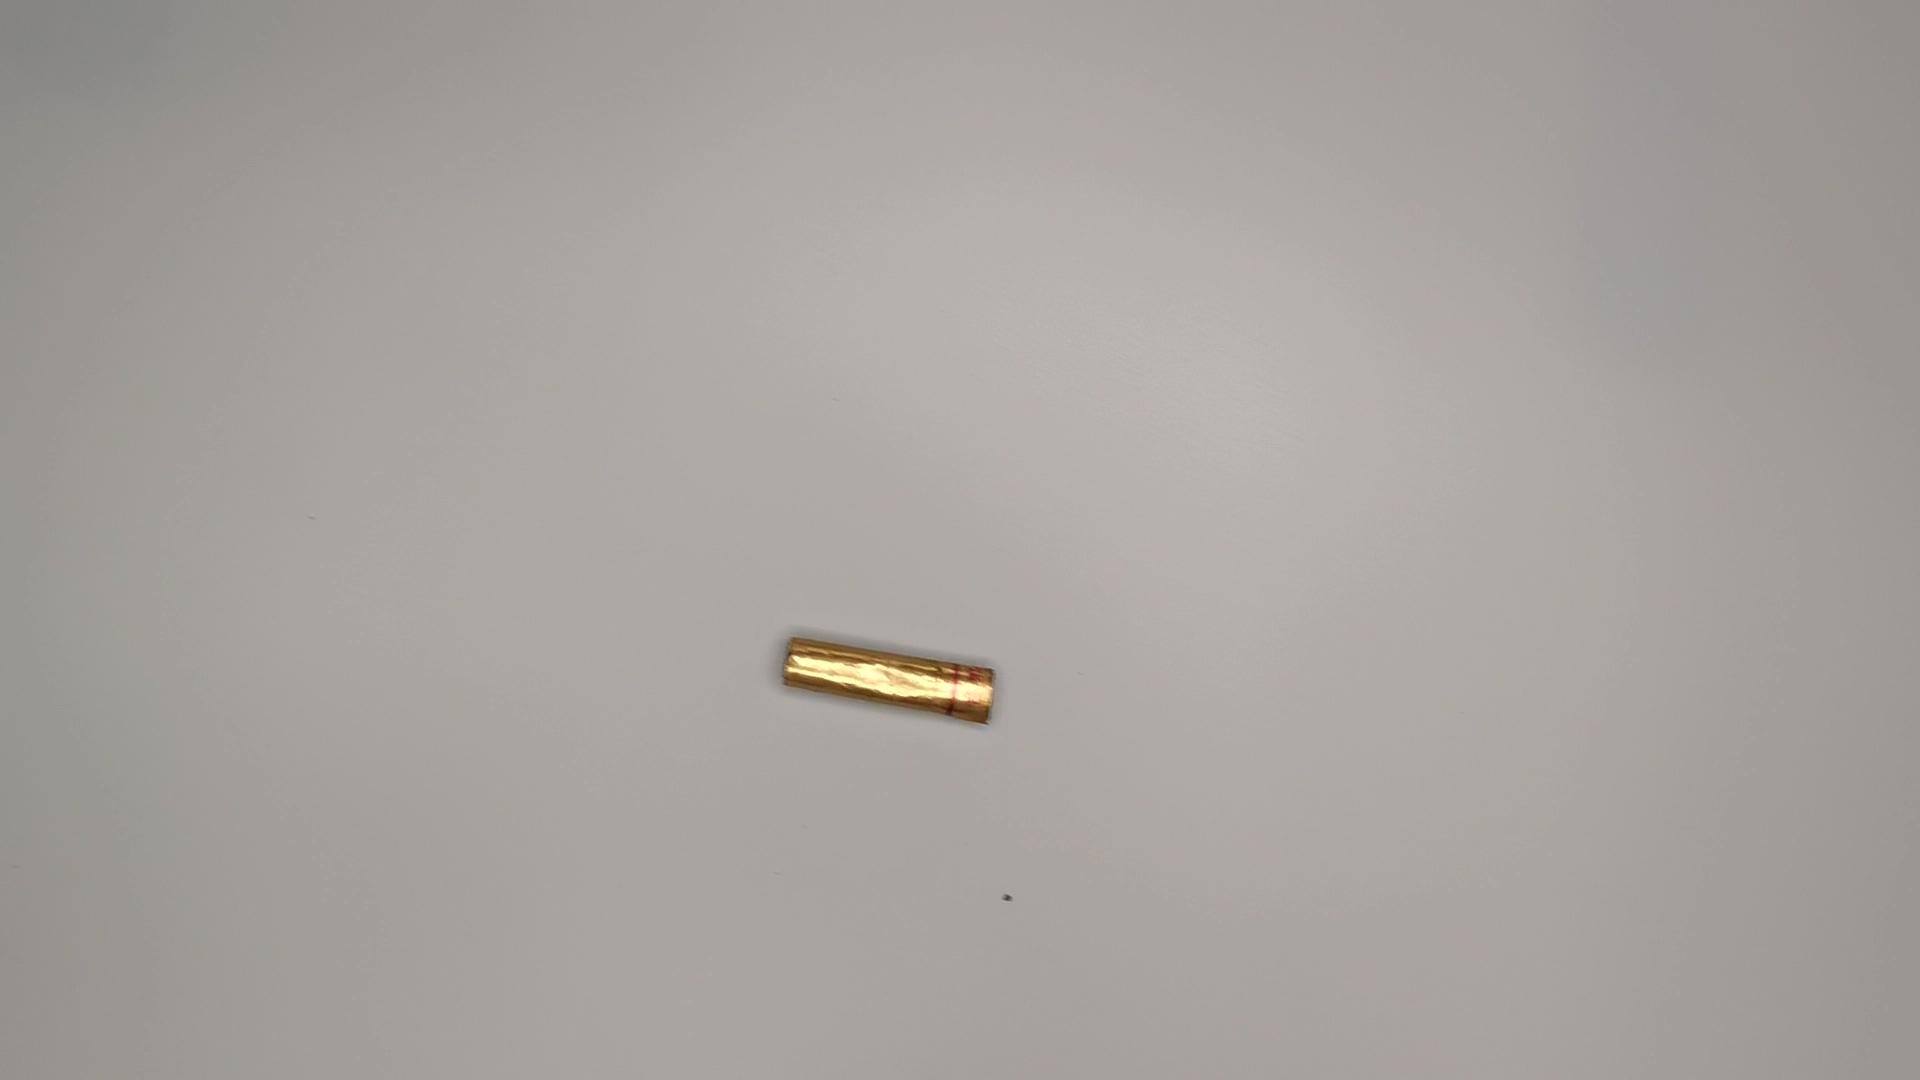cigarette: (760, 632, 1017, 735)
